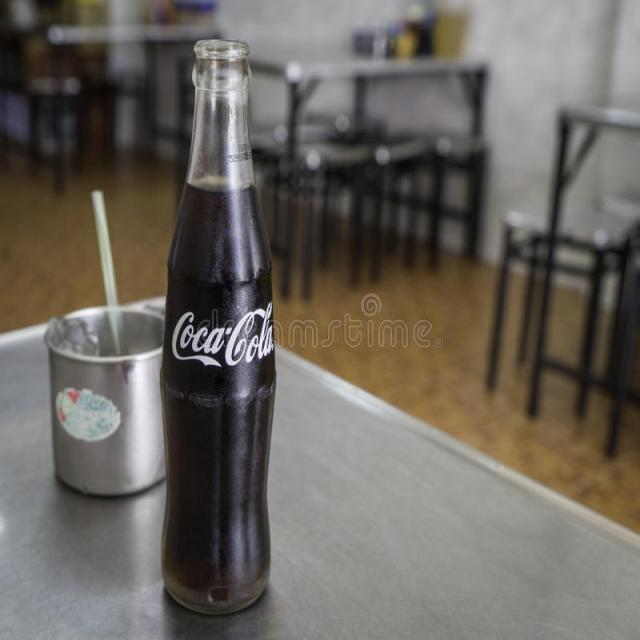Soda: (159, 39, 277, 619)
